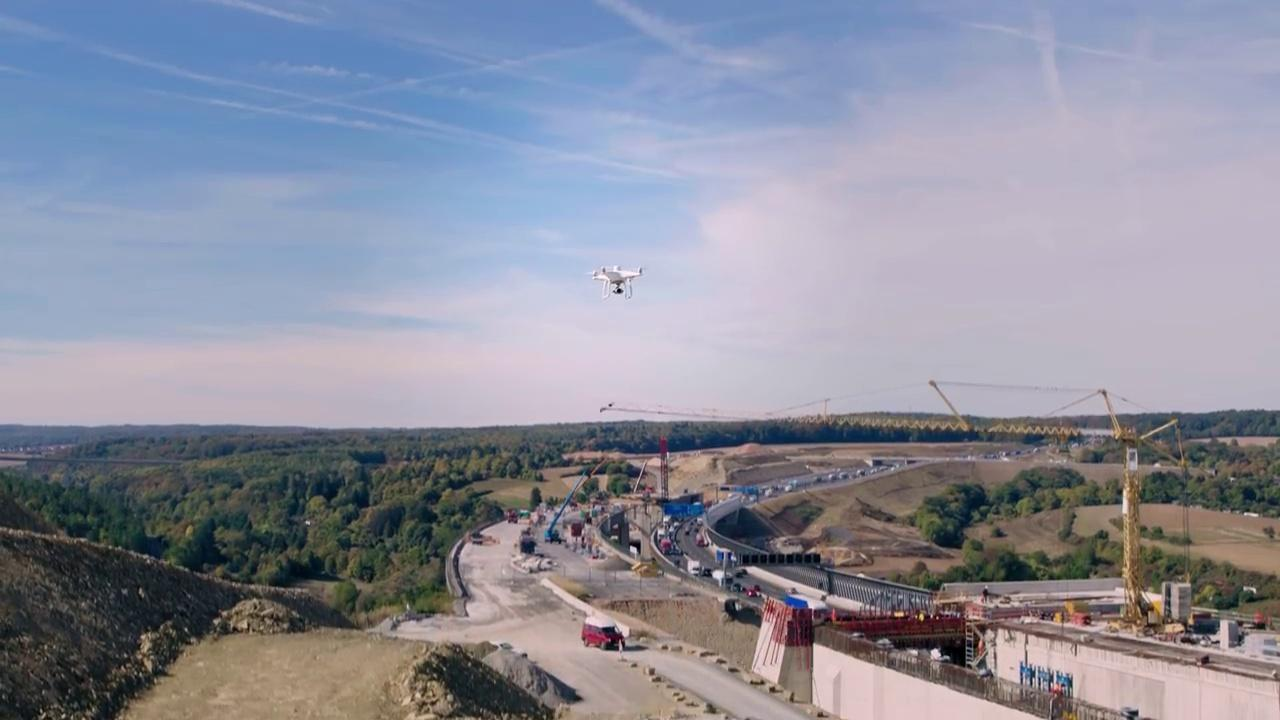drone: (584, 258, 653, 300)
